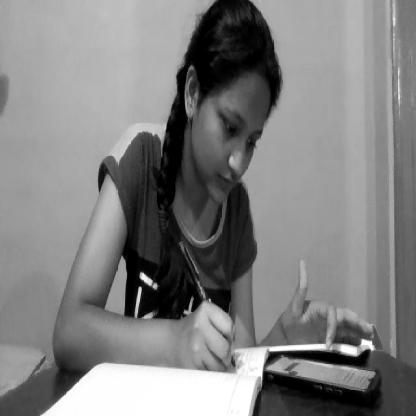Distracted: (176, 2, 286, 220)
